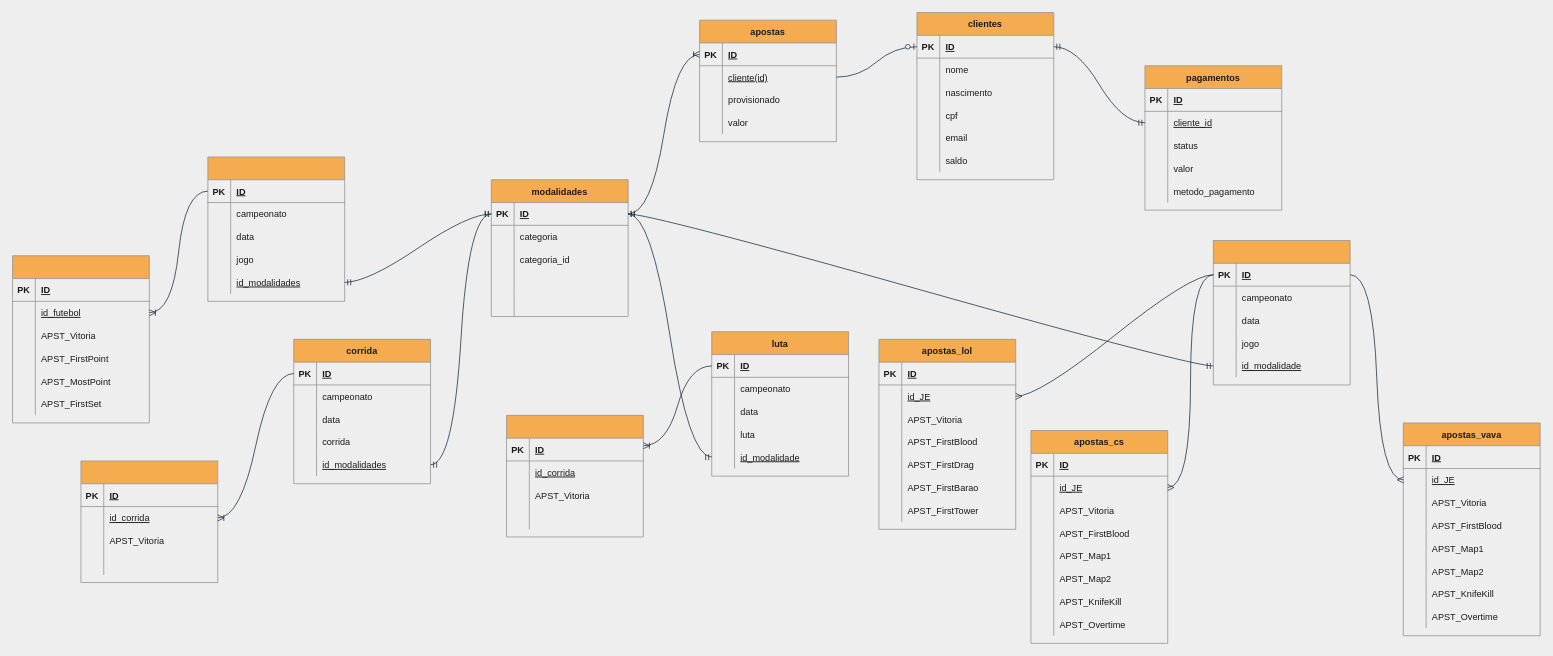
This 1553x656 diagram has some shape labels left out. Each missing label, with the box of its shape:
aposta_corrida: (80, 460, 218, 583)
aposta_luta: (506, 415, 643, 537)
apostas_futebol: (12, 255, 149, 423)
futebol: (207, 156, 345, 301)
jogos_eletronicos: (1213, 240, 1350, 385)
